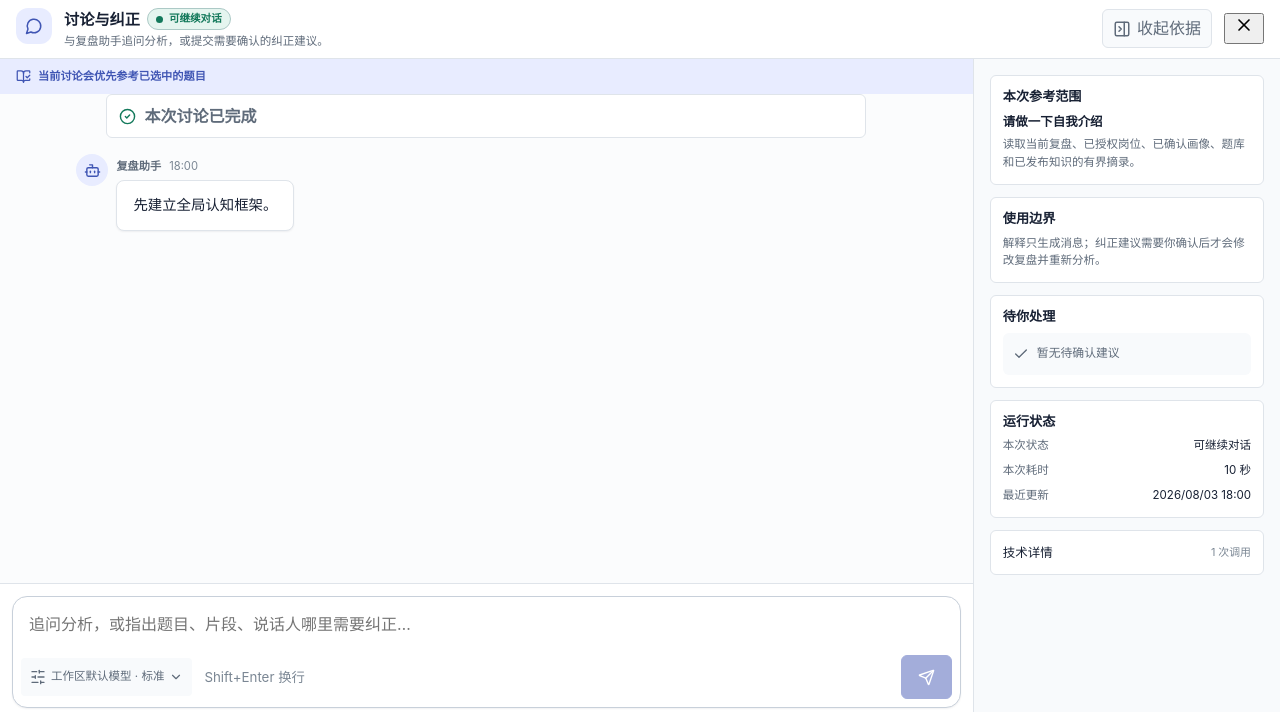
Test case: RetrospectiveConversation › uses the retrospective assistant identity and exposes the standard conversation context
The width and height of the screenshot is (1280, 712).
Expected: the text "复盘助手" is shown, [116,158,161,176]
Expected: the message named "运行状态：可继续对话" is shown, [147,8,231,30]
Step 1. Click the text "技术详情" → (1028, 552), box [1003,543,1053,562]
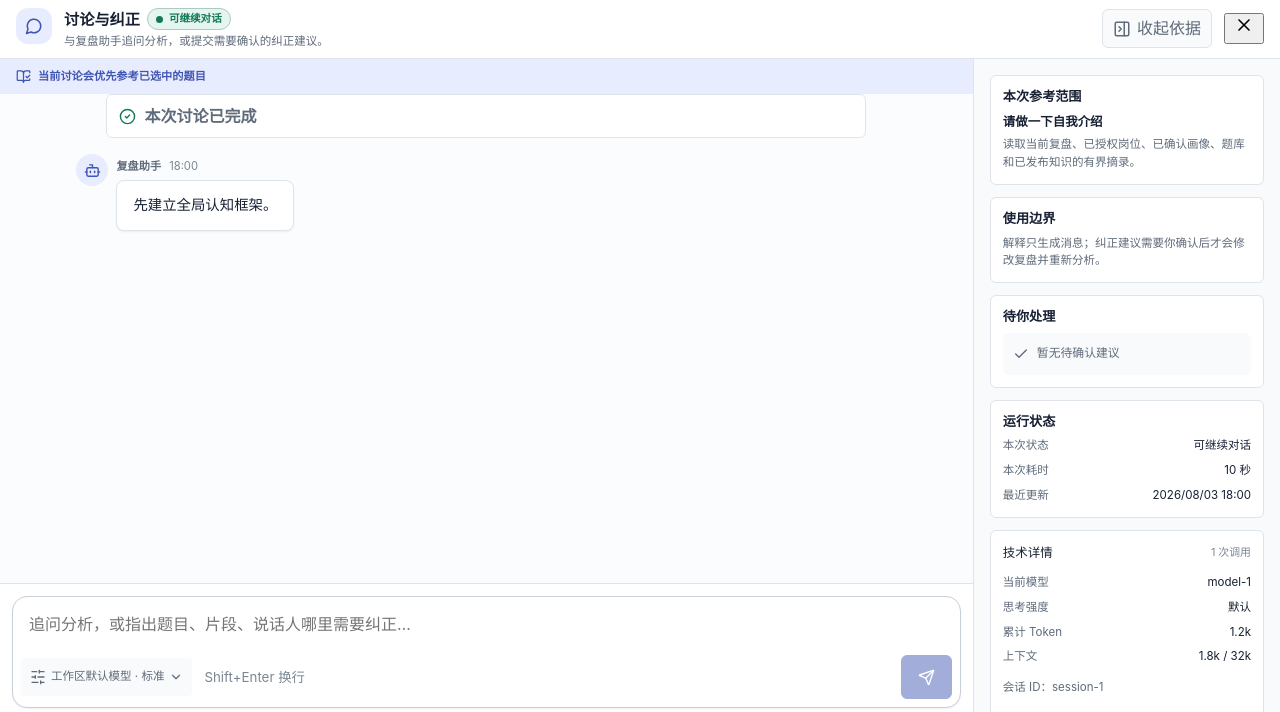
Now the text "1.2k" is shown, box [1230,624,1251,641]
